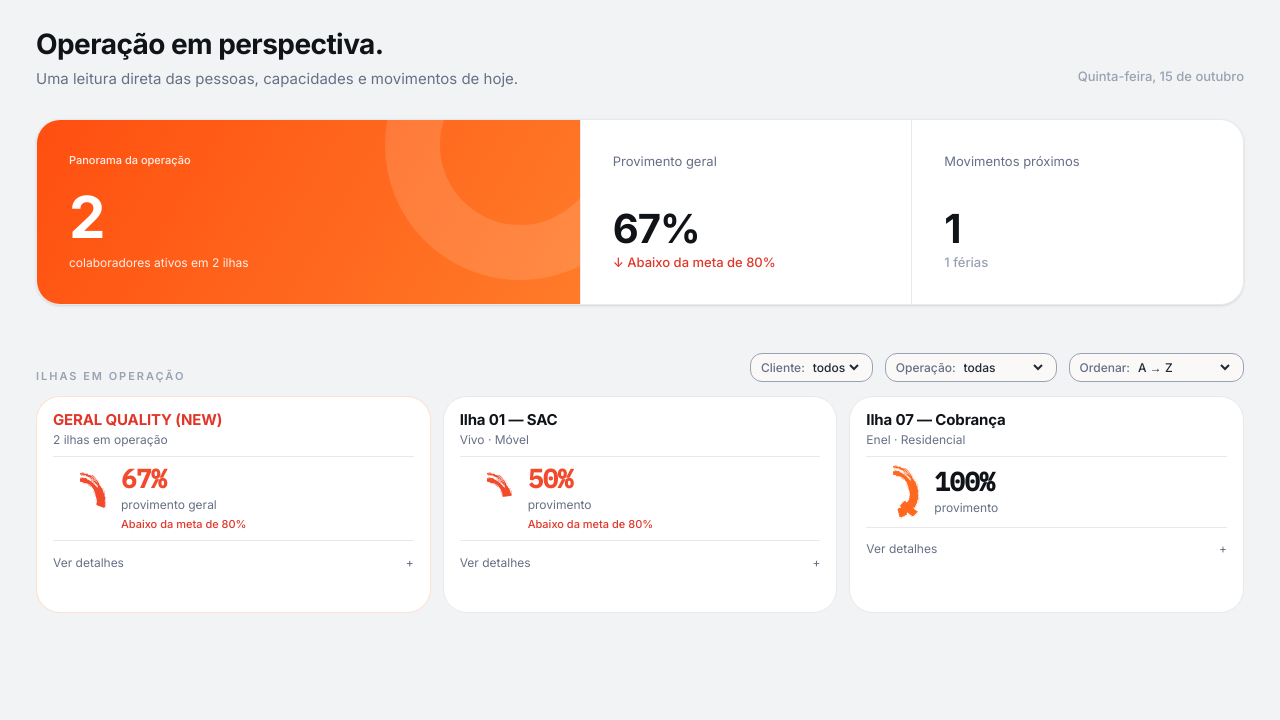
it: Visão geral › recorta o mapa pelo cliente escolhido no chip
The width and height of the screenshot is (1280, 720).
Expected: the heading "Ilha 01 — SAC" is shown, [460,410,558,429]
Select "Enel" in the dropdown named "Filtrar ilhas por cliente". click: {"x": 835, "y": 368}
box: [809,359,862,376]
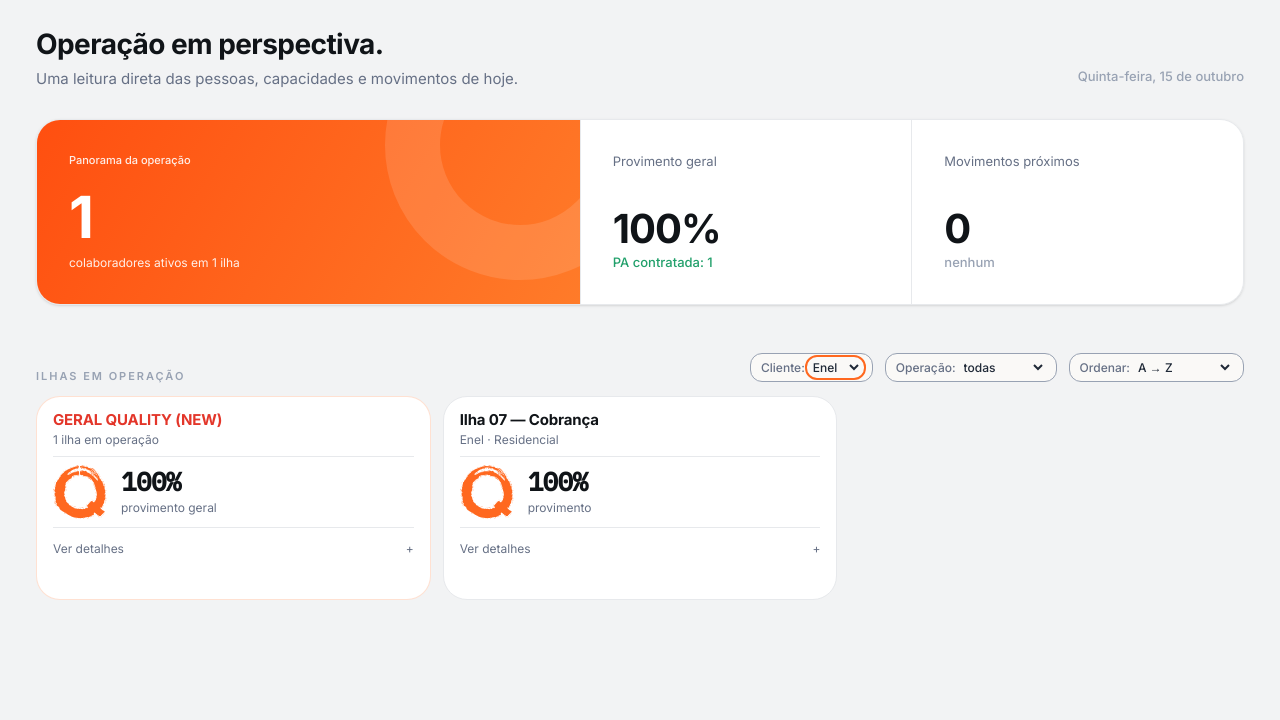
Expected: the heading "Ilha 07 — Cobrança" is shown, [460,410,599,429]
Expected: the button "Ilha 01 — SAC" is gone
